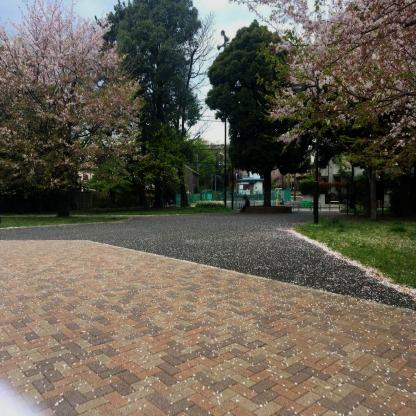Someiyoshino: (230, 1, 416, 166), (0, 0, 148, 202)
